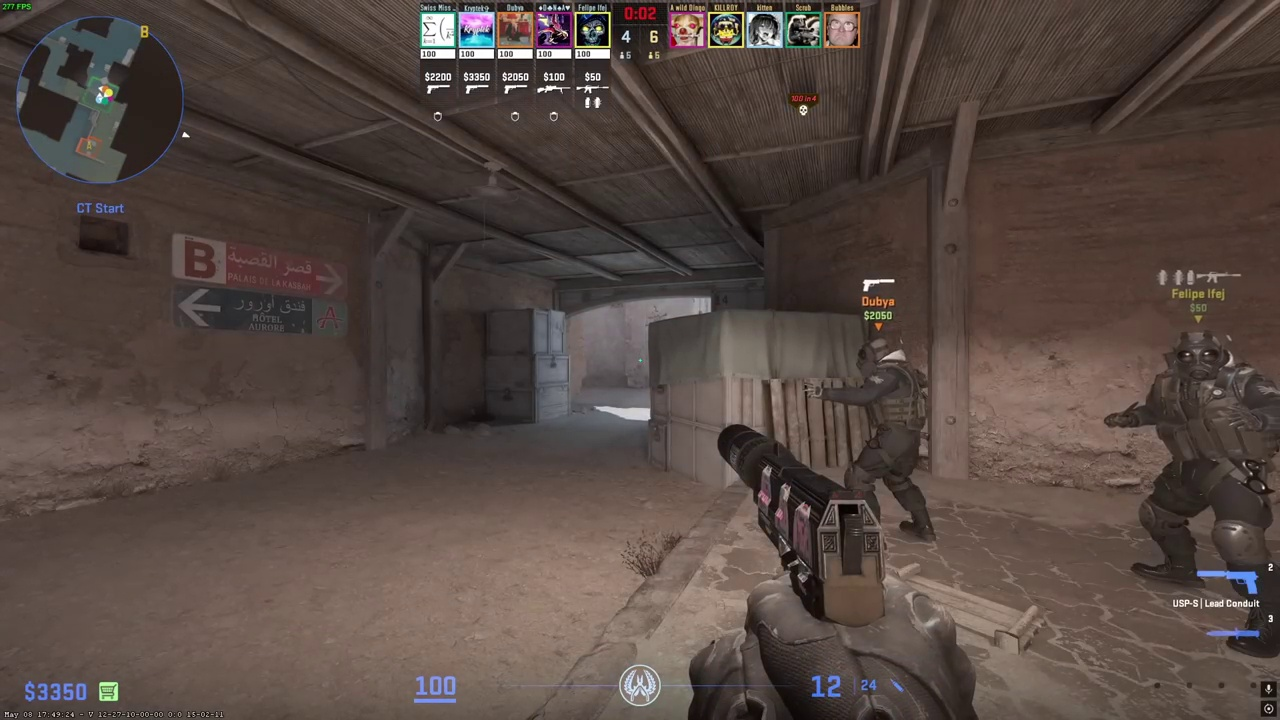CT: (1126, 331, 1280, 651), (839, 336, 936, 542)
